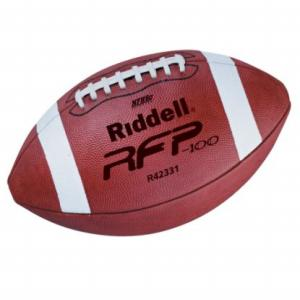Rugby: (6, 48, 292, 237)
